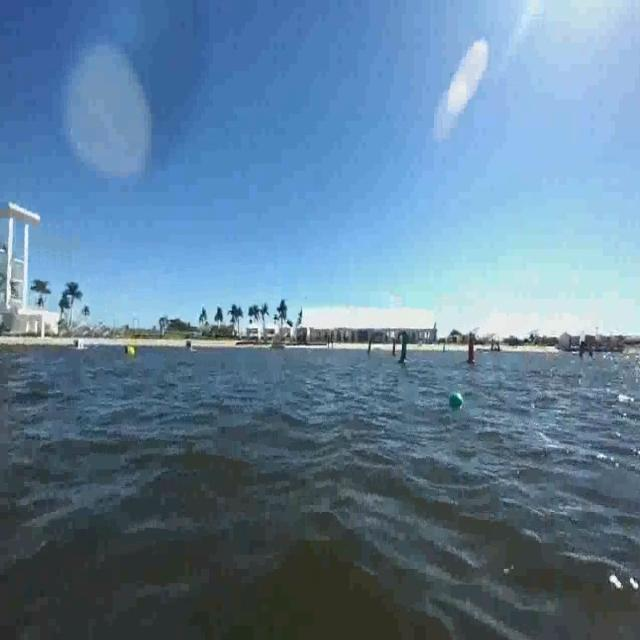green-buoy: (450, 392, 463, 408)
green-column-buoy: (398, 332, 408, 366)
red-buoy: (466, 331, 476, 367)
yellow-buoy: (128, 345, 137, 359)
